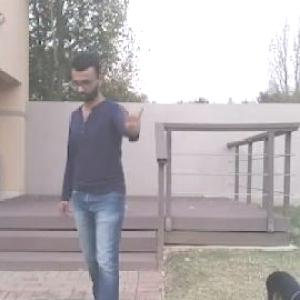takeoff-hand: (112, 98, 152, 139)
